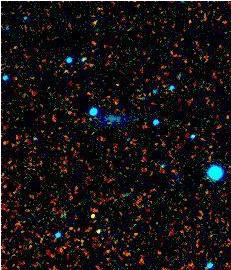star: (74, 205, 104, 235)
